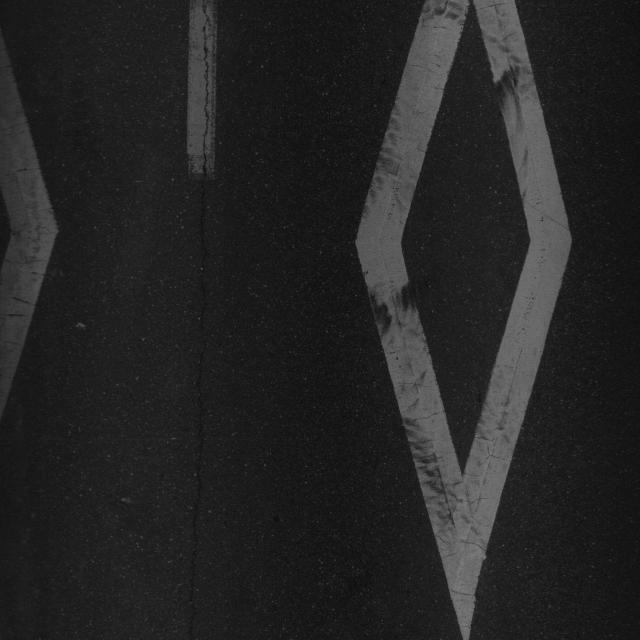diamond: (193, 1, 631, 640)
